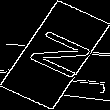N_SE: (17, 25, 93, 85)
